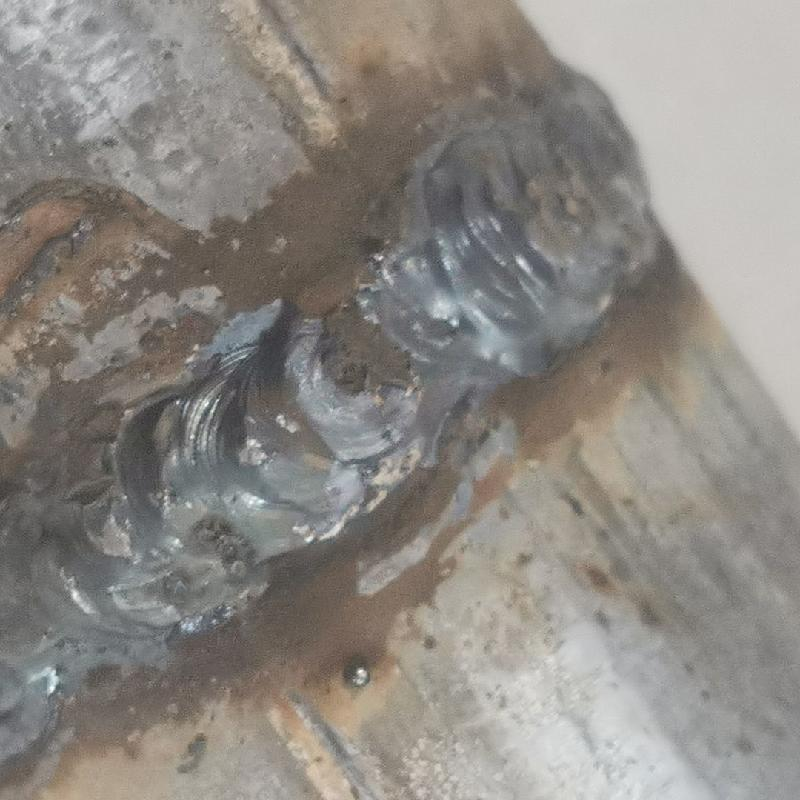good: (1, 10, 649, 710)
